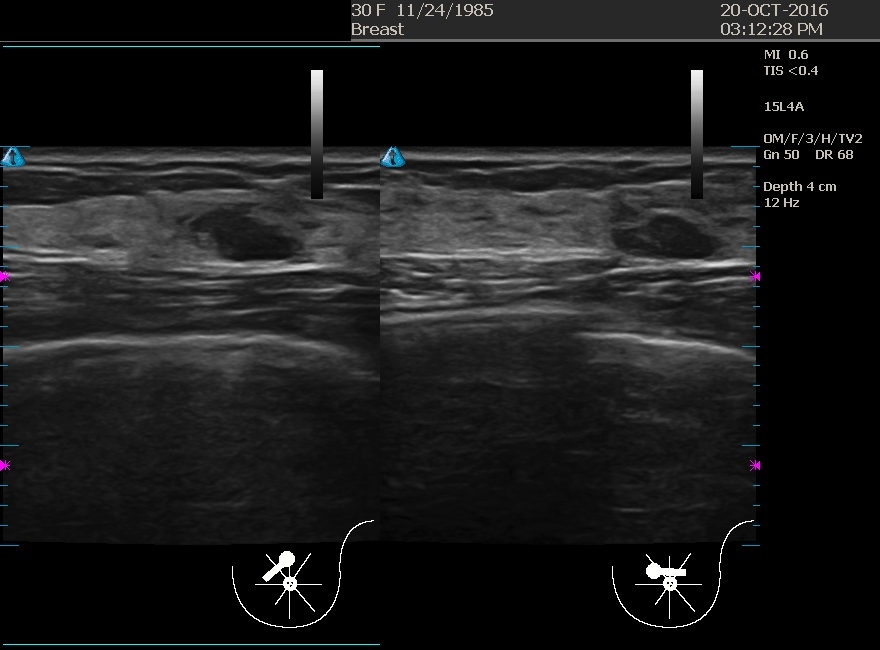BIRADS_2: (163, 203, 364, 403), (532, 205, 732, 405)
